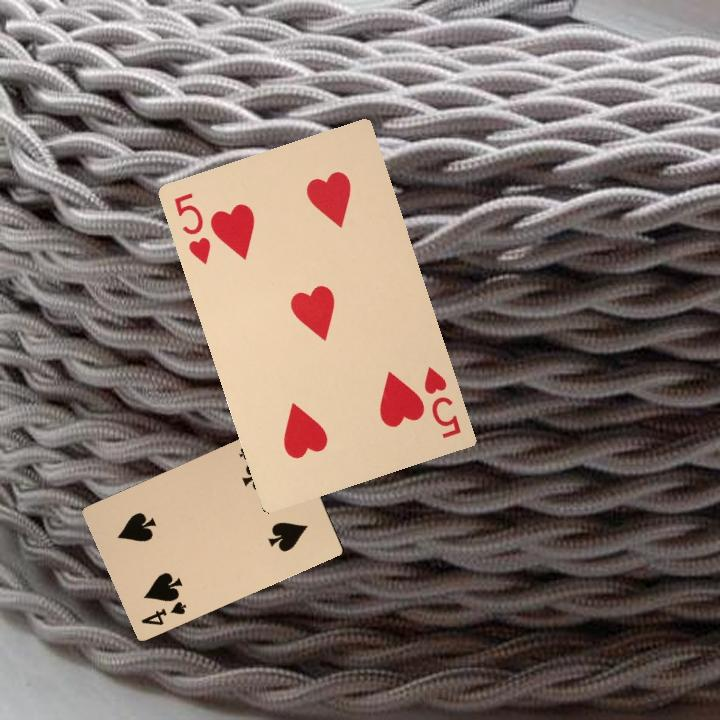4s: (137, 597, 189, 628)
5h: (419, 362, 464, 441), (170, 188, 214, 268)
